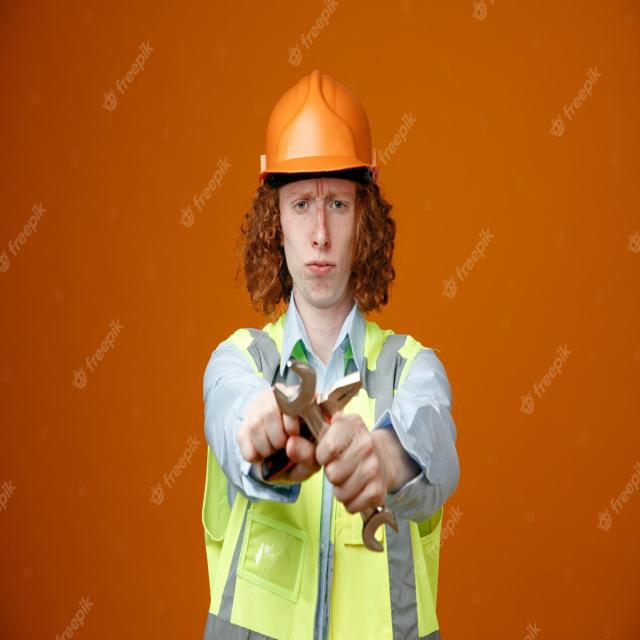helmet: (255, 66, 386, 190)
no-goggles: (262, 171, 374, 229)
vest: (199, 300, 445, 640)
